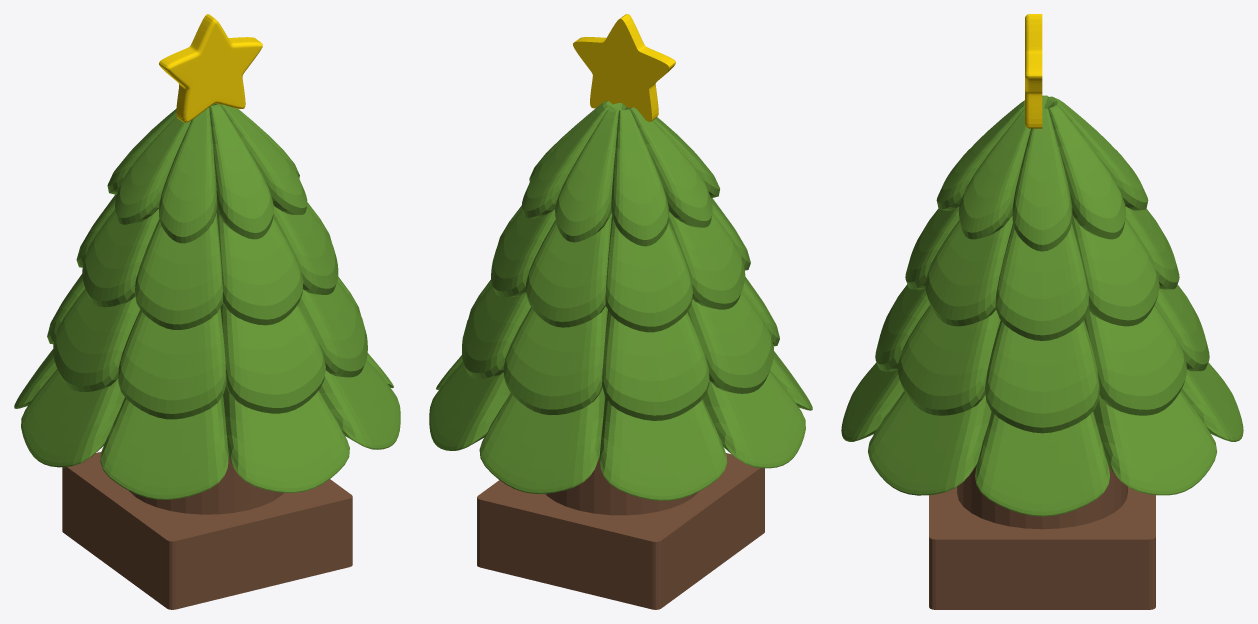
The model's file is cap_tree.glb.
3 renders of one model, left to right at view 1: azimuth 30°, elevation 25°; view 2: azimuth 150°, elevation 25°; view 3: azimuth 270°, elevation 25°, orthographic. The views are drawn at different scales.
Visible parts, largest first — view 1: Plane.063, Plane.062, Cube.079, Plane.061, Plane.060, Circle.036, Circle.037; view 2: Plane.063, Plane.062, Cube.079, Plane.061, Plane.060, Circle.036, Circle.037; view 3: Plane.063, Plane.062, Plane.061, Cube.079, Plane.060, Circle.037, Circle.036.
Boxes of the visible parts, x1=… form: Plane.063: x1=14, y1=349, x2=400, y2=499; Plane.062: x1=47, y1=274, x2=367, y2=419; Cube.079: x1=62, y1=451, x2=352, y2=609; Plane.061: x1=76, y1=195, x2=338, y2=329; Plane.060: x1=107, y1=103, x2=307, y2=243; Circle.036: x1=159, y1=14, x2=262, y2=122; Circle.037: x1=129, y1=456, x2=283, y2=514; Plane.063: x1=429, y1=351, x2=812, y2=500; Plane.062: x1=462, y1=276, x2=779, y2=420; Cube.079: x1=477, y1=453, x2=764, y2=609; Plane.061: x1=491, y1=198, x2=750, y2=332; Plane.060: x1=521, y1=101, x2=719, y2=246; Circle.036: x1=573, y1=14, x2=675, y2=121; Circle.037: x1=545, y1=457, x2=698, y2=515; Plane.063: x1=841, y1=362, x2=1243, y2=516; Plane.062: x1=875, y1=284, x2=1209, y2=433; Plane.061: x1=905, y1=206, x2=1179, y2=340; Cube.079: x1=929, y1=487, x2=1155, y2=609; Plane.060: x1=936, y1=95, x2=1148, y2=251; Circle.037: x1=957, y1=465, x2=1127, y2=529; Circle.036: x1=1025, y1=14, x2=1042, y2=128.
Bounding box in the file's own units: 31.04 × 46.8 × 31.04.
